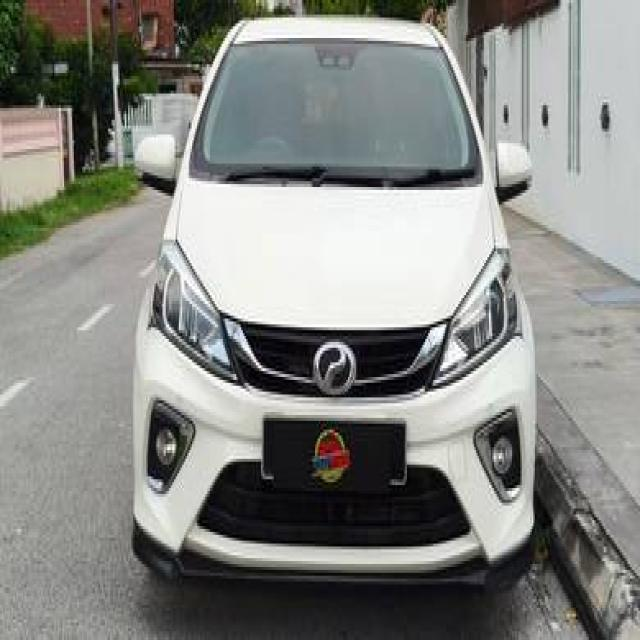PeroduaMyvi: (130, 12, 538, 590)
